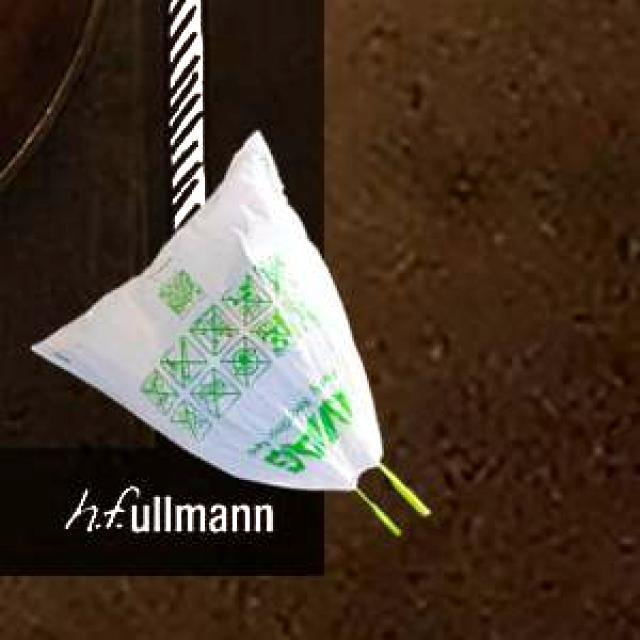Plastic_Bag: (28, 129, 426, 532)
